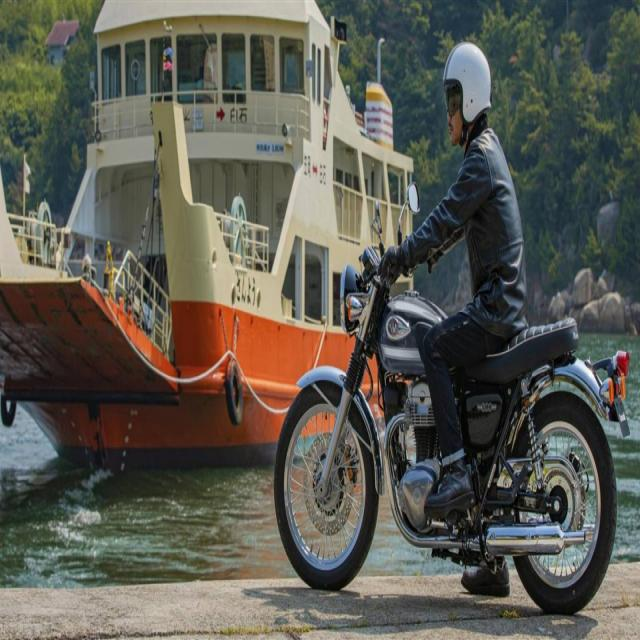Bike: (275, 202, 629, 615), (398, 182, 419, 236)
